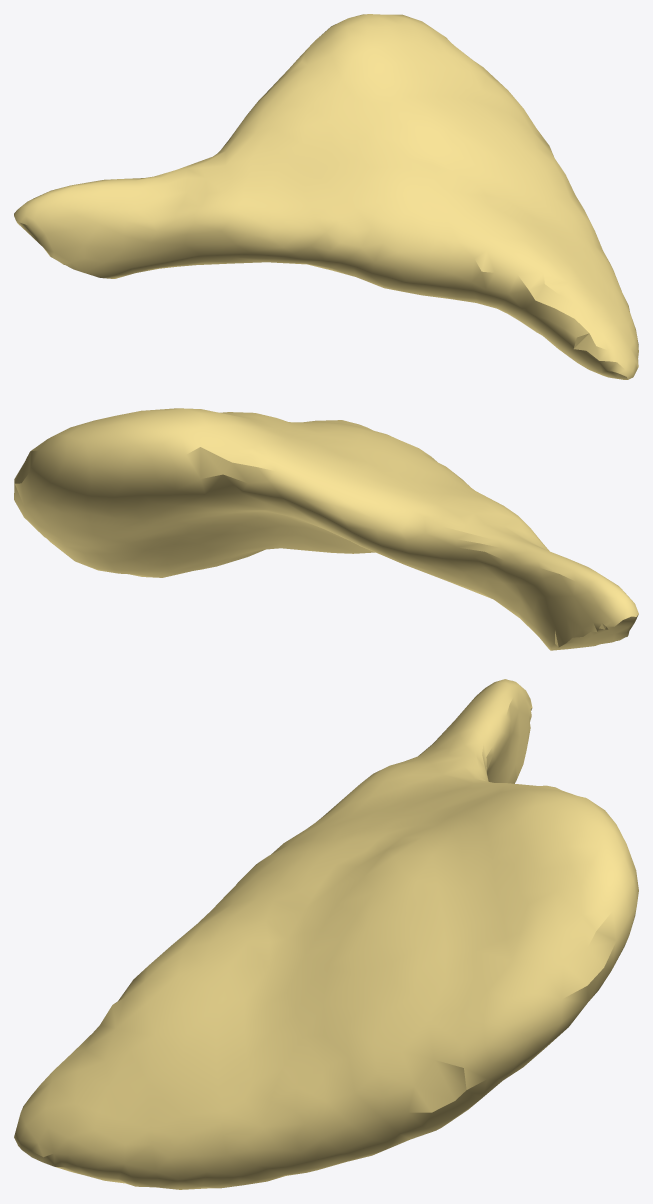
Rendered from fma72919_mm3326.glb.
3 renders of one model, top to bottom at view 1: azimuth 30°, elevation 25°; view 2: azimuth 150°, elevation 25°; view 3: azimuth 270°, elevation 25°, orthographic. The views are drawn at different scales.
Visible parts, largest first — view 1: FMA72919_MM3326; view 2: FMA72919_MM3326; view 3: FMA72919_MM3326.
Part boxes in pixels (x1,y1,x2,y2): FMA72919_MM3326: (14, 14, 638, 379); FMA72919_MM3326: (14, 408, 638, 650); FMA72919_MM3326: (14, 679, 638, 1189).
Bounding box in the file's own units: 0.0272 × 0.012 × 0.0215.
